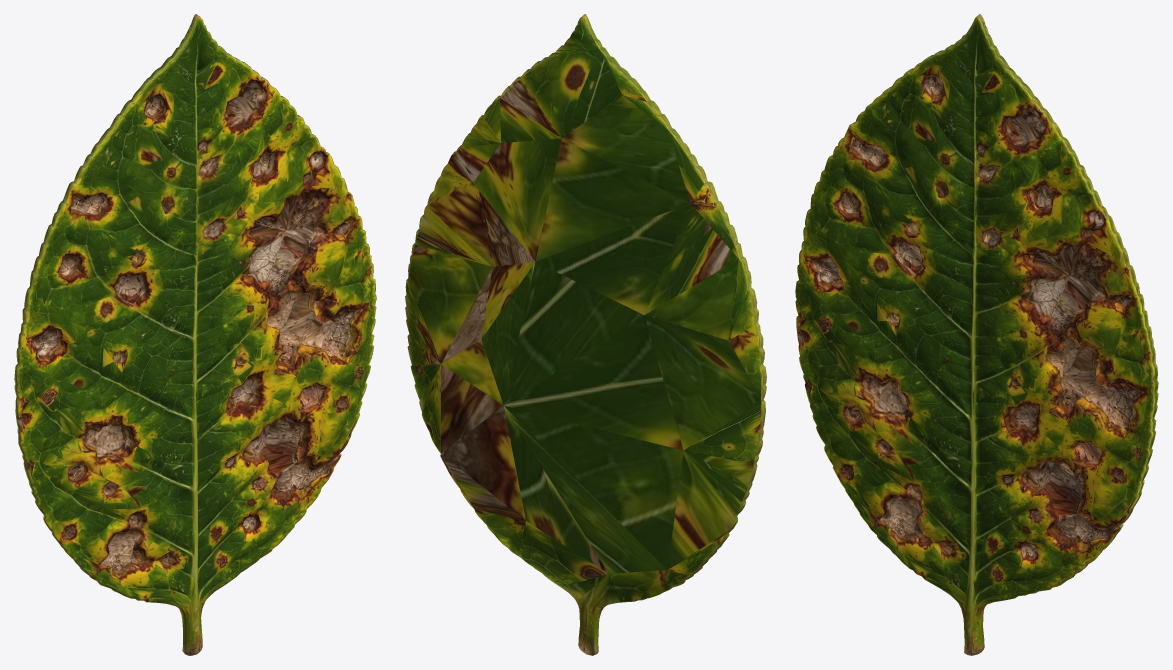
File: soybean_frogeye_leaf_spot.glb
3 renders of one model, left to right at view 1: azimuth 30°, elevation 25°; view 2: azimuth 150°, elevation 25°; view 3: azimuth 330°, elevation 25°, orthographic.
Parts seen in each view (by area): view 1: soybean_frogeye_leaf_spot; view 2: soybean_frogeye_leaf_spot; view 3: soybean_frogeye_leaf_spot.
Boxes of the visible parts, x1=… form: soybean_frogeye_leaf_spot: x1=14, y1=14, x2=376, y2=655; soybean_frogeye_leaf_spot: x1=405, y1=14, x2=766, y2=655; soybean_frogeye_leaf_spot: x1=795, y1=14, x2=1158, y2=655.
Size of the model in its own units: 0.5902 by 1 by 0.0208.
1 material, 1 textured.
